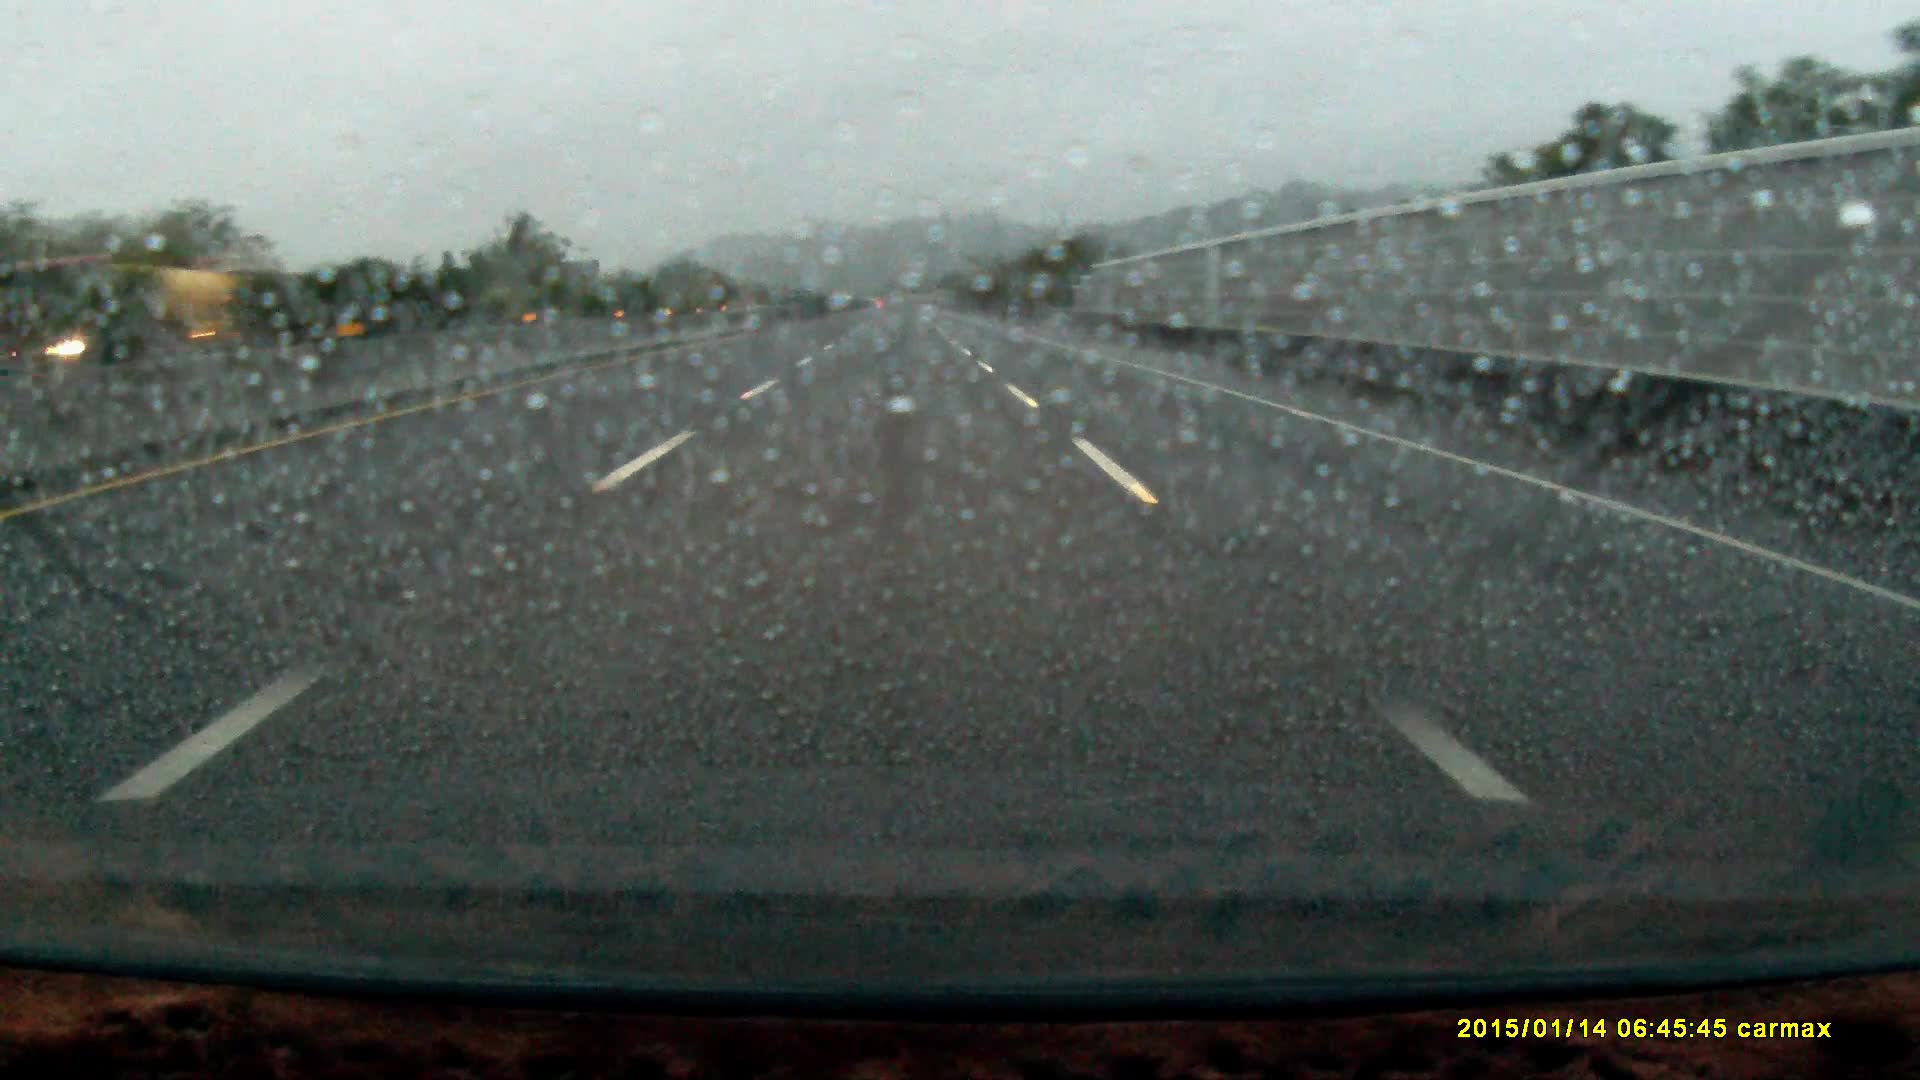vehicle: (1, 251, 315, 381)
